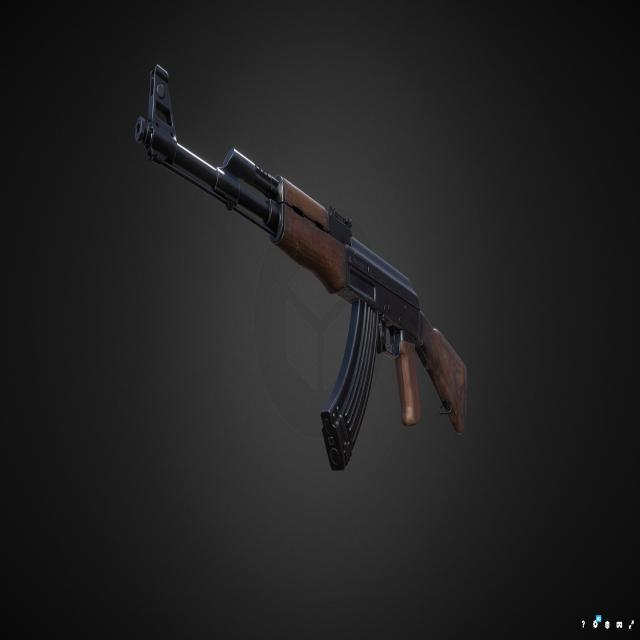Rifle: (137, 61, 470, 469)
